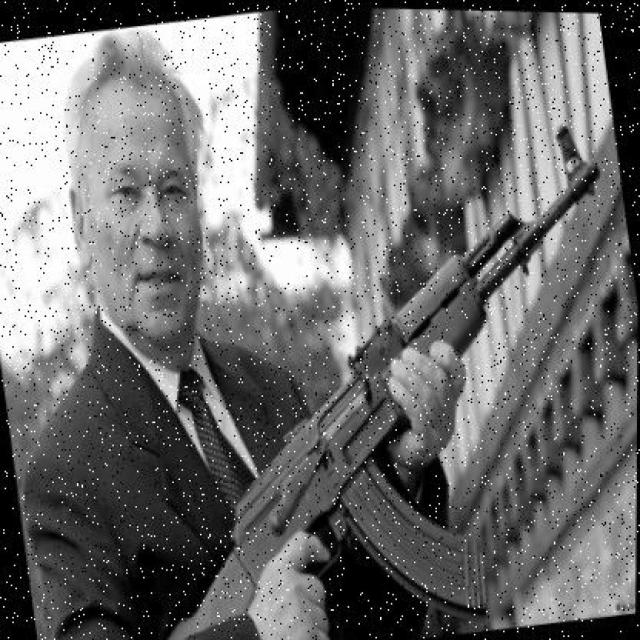weapon: (170, 124, 602, 638)
